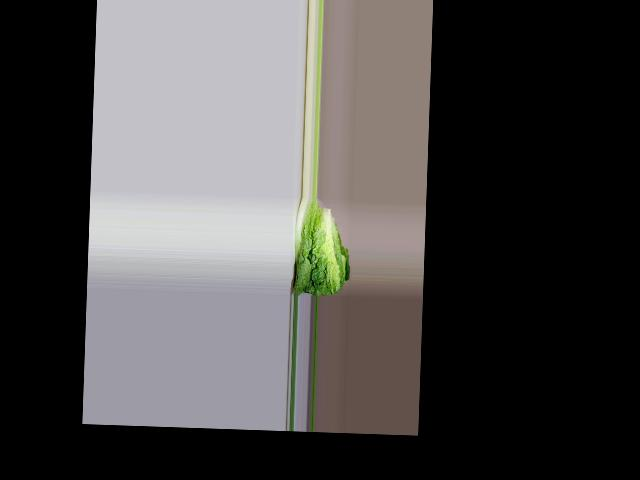lettuce: (290, 202, 345, 297)
